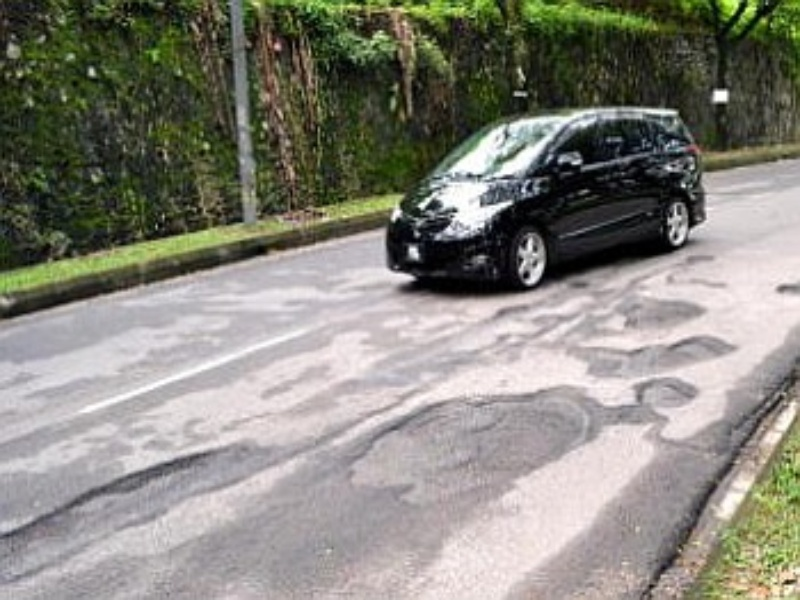pothole: (346, 384, 603, 508), (638, 377, 696, 408), (666, 337, 727, 360)
